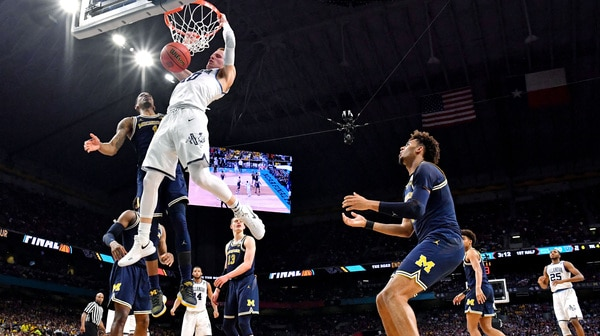ball: (154, 37, 196, 78)
dunk: (109, 2, 264, 277)
